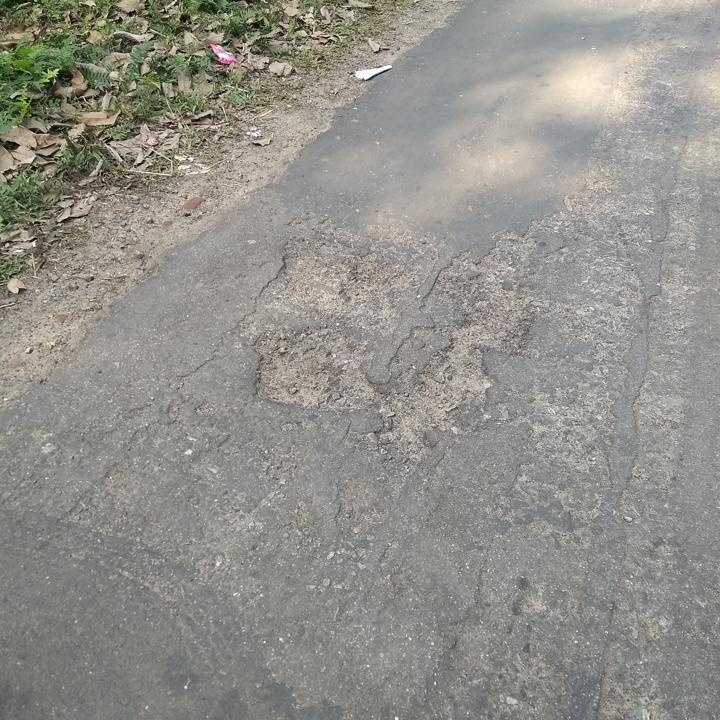pothole: (230, 222, 545, 465)
